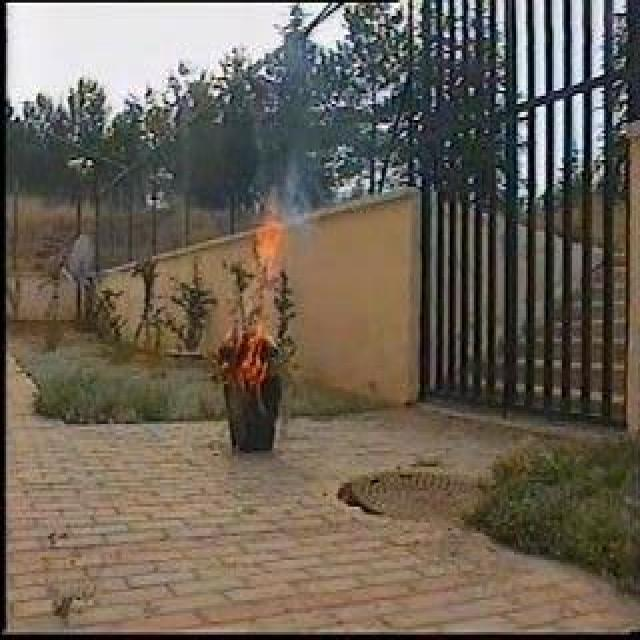fire: (227, 319, 274, 380), (252, 220, 285, 268)
